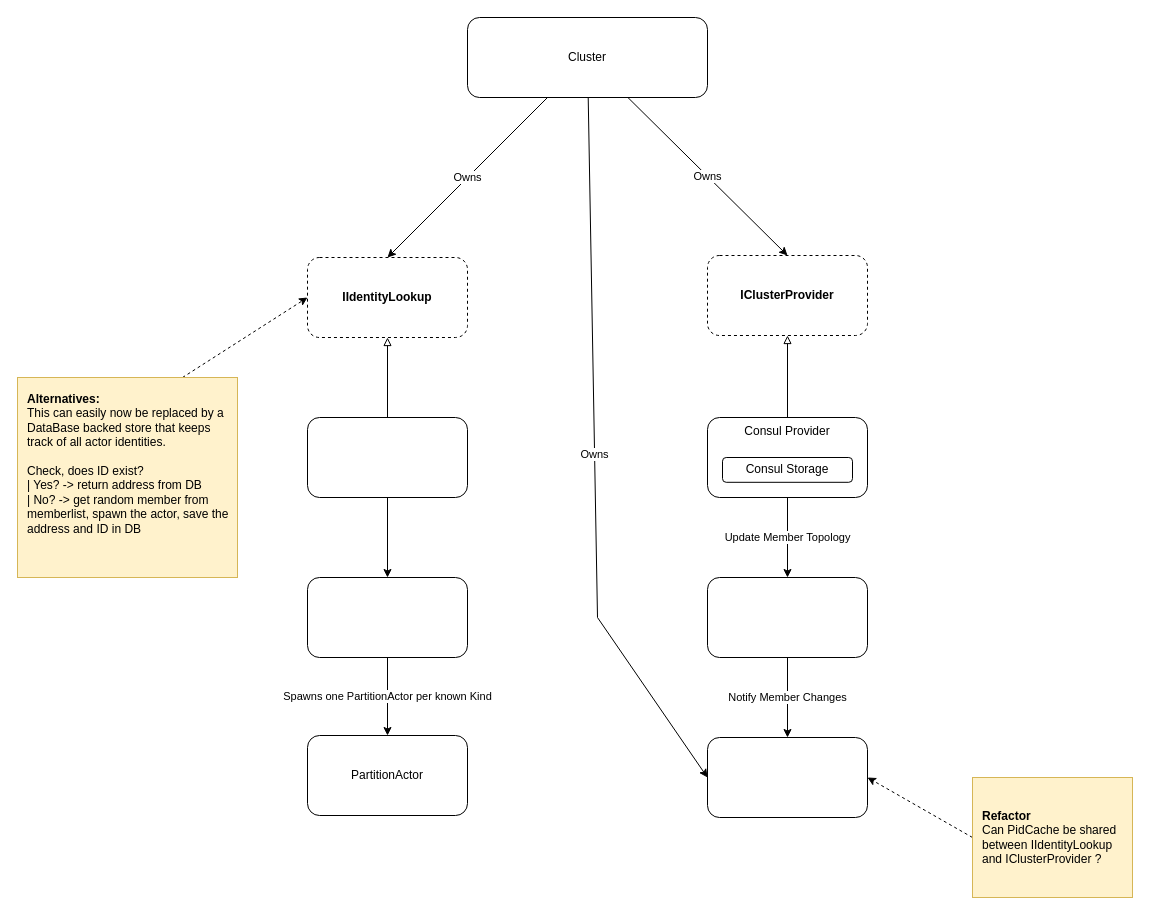
This 1150x915 diagram has some shape labels left out. The shapes that lost their labels are listed below. From the top down, each one's centre as x and y in pixels, then its label:
the point at 387,457: PartitionIdentityLookup
the point at 387,617: Partition
the point at 787,617: MemberList
the point at 787,777: PidCache
